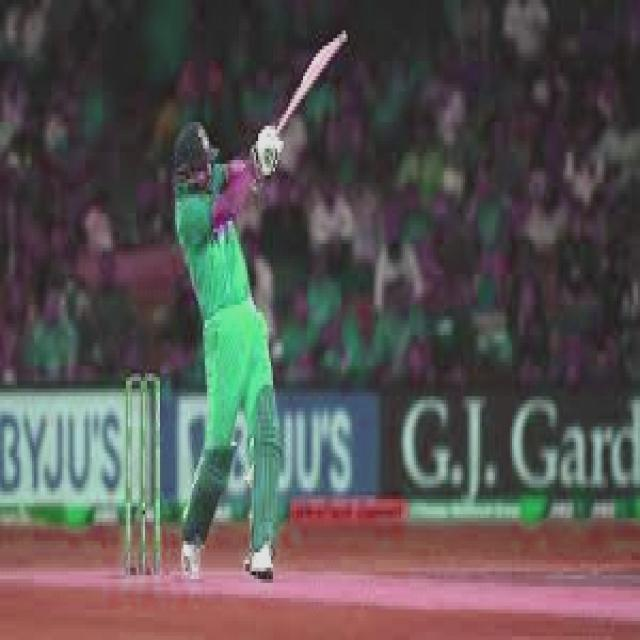toe: (324, 26, 348, 58)
